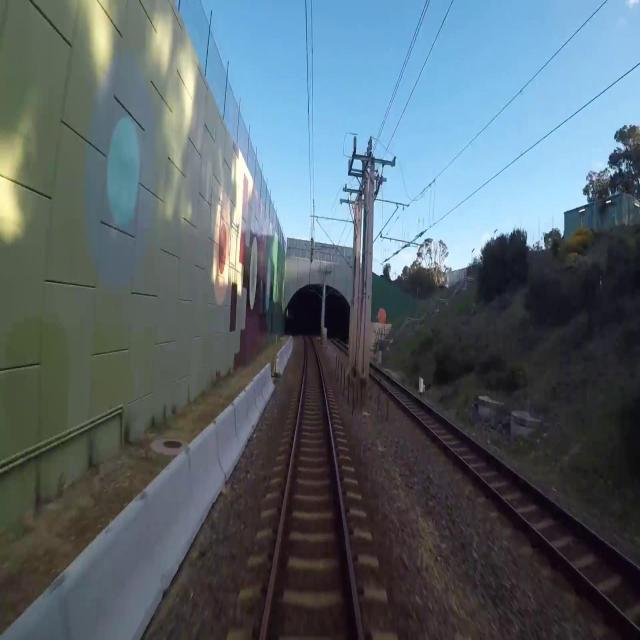rail-track: (371, 366, 640, 624), (264, 336, 358, 639)
